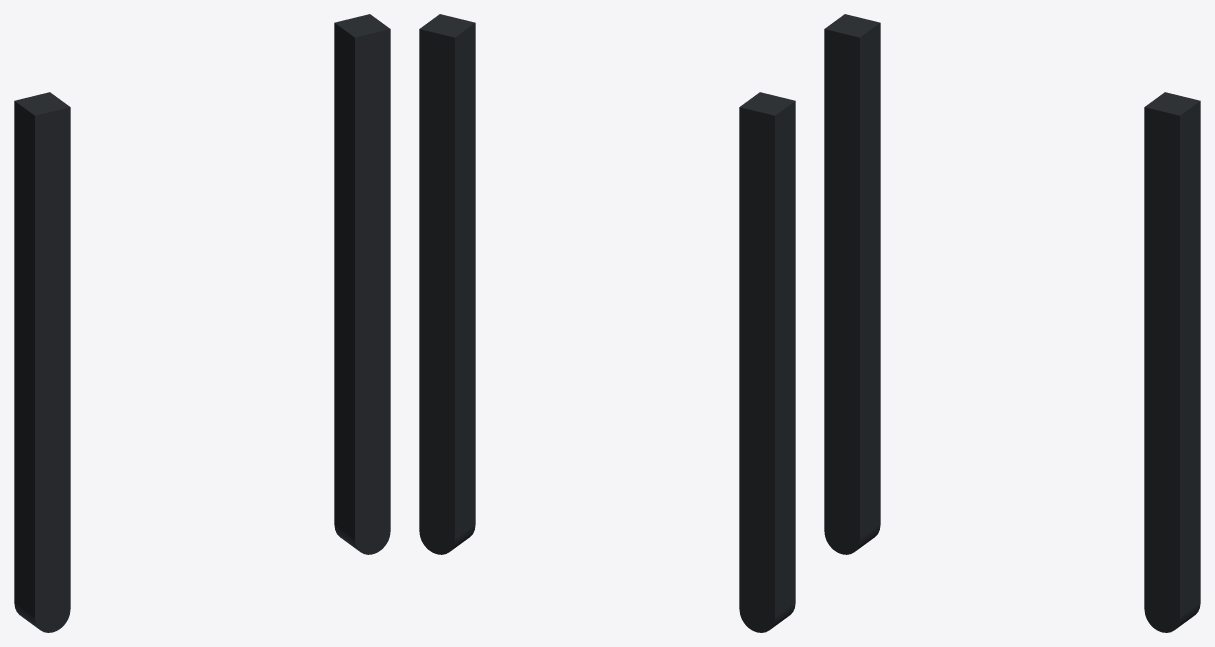
Rendered from TableLegs.dae.
3 renders of one model, left to right at view 1: azimuth 30°, elevation 25°; view 2: azimuth 150°, elevation 25°; view 3: azimuth 330°, elevation 25°, orthographic.
Parts seen in each view (by area): view 1: generated; view 2: generated; view 3: generated.
Part boxes in pixels (<box>): generated: <box>14,14,390,632</box>; generated: <box>419,14,795,632</box>; generated: <box>824,14,1200,632</box>.
Size of the model in its own units: 10 by 14 by 1.
1 material, 1 textured.
